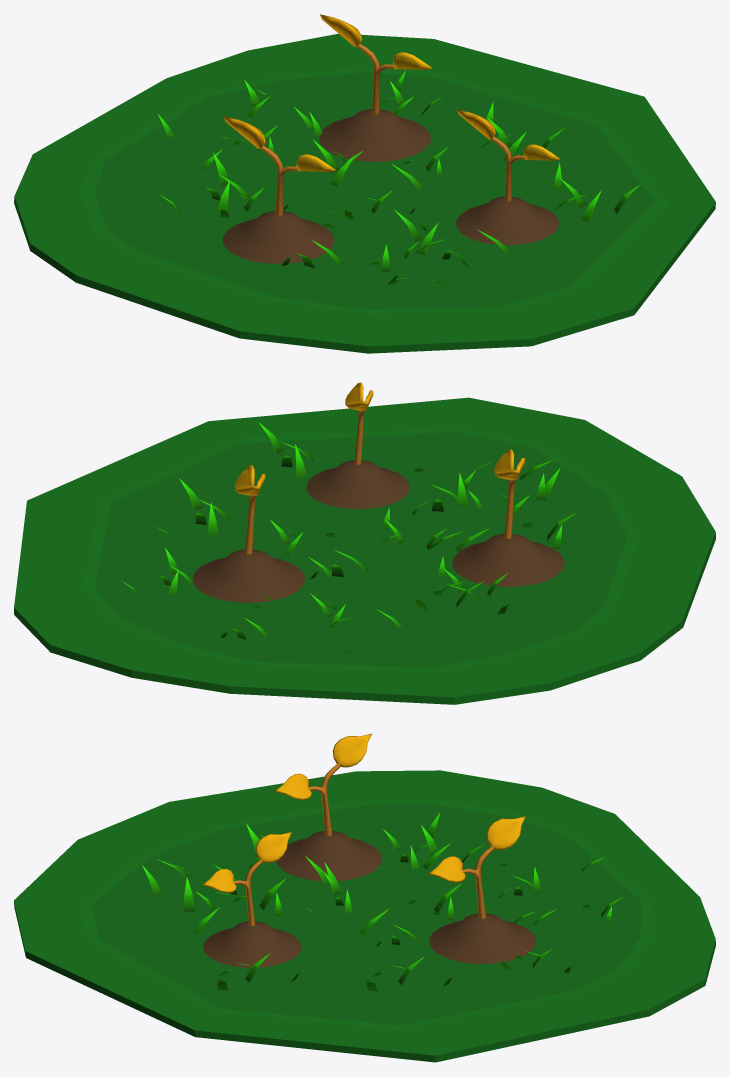
The model's file is TreeSproutGroup.glb.
The picture shows the model from 3 angles, top to bottom: view 1: azimuth 30°, elevation 25°; view 2: azimuth 150°, elevation 25°; view 3: azimuth 270°, elevation 25°; orthographic projection. The views are drawn at different scales.
Parts seen in each view (by area): view 1: Sprout.001; view 2: Sprout.001; view 3: Sprout.001.
Part boxes in pixels (<box>): Sprout.001: <box>14,14,715,353</box>; Sprout.001: <box>14,382,715,704</box>; Sprout.001: <box>14,733,715,1062</box>.
Size of the model in its own units: 1.16 by 0.2236 by 1.2.
1 material, 1 textured.
